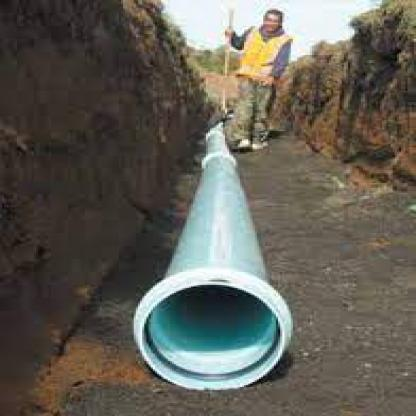PVC: (134, 123, 294, 388)
